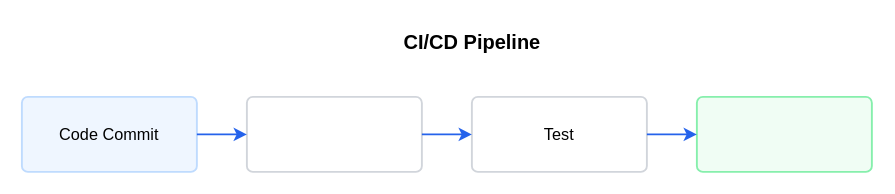
This 895x194 diagram has some shape labels left out. Here are the shapes that lost their labels. From the top down, the box of each, then its label:
(245, 95, 422, 172): Build
(695, 95, 872, 172): Deploy
